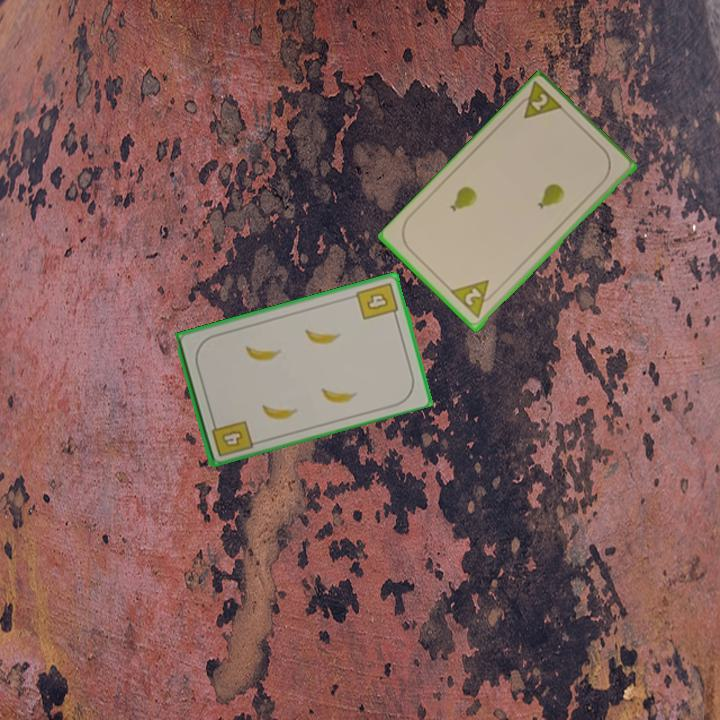2p: (510, 79, 567, 122), (448, 276, 500, 321)
4b: (352, 278, 401, 323), (208, 416, 256, 460)
